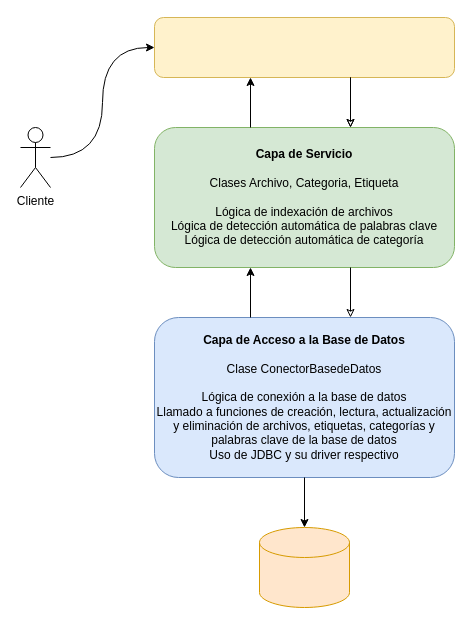
Some shapes in this 472 by 625 pixel diagram are drawn without their labels. The shapes that lost their labels are listed below. From the top down, each one's centre as x and y in pixels, then its label:
At point (304, 47): "Capa de Presentación GUI hecha con JavaFX".
At point (304, 567): "Base de Datos PosgreSQL".
